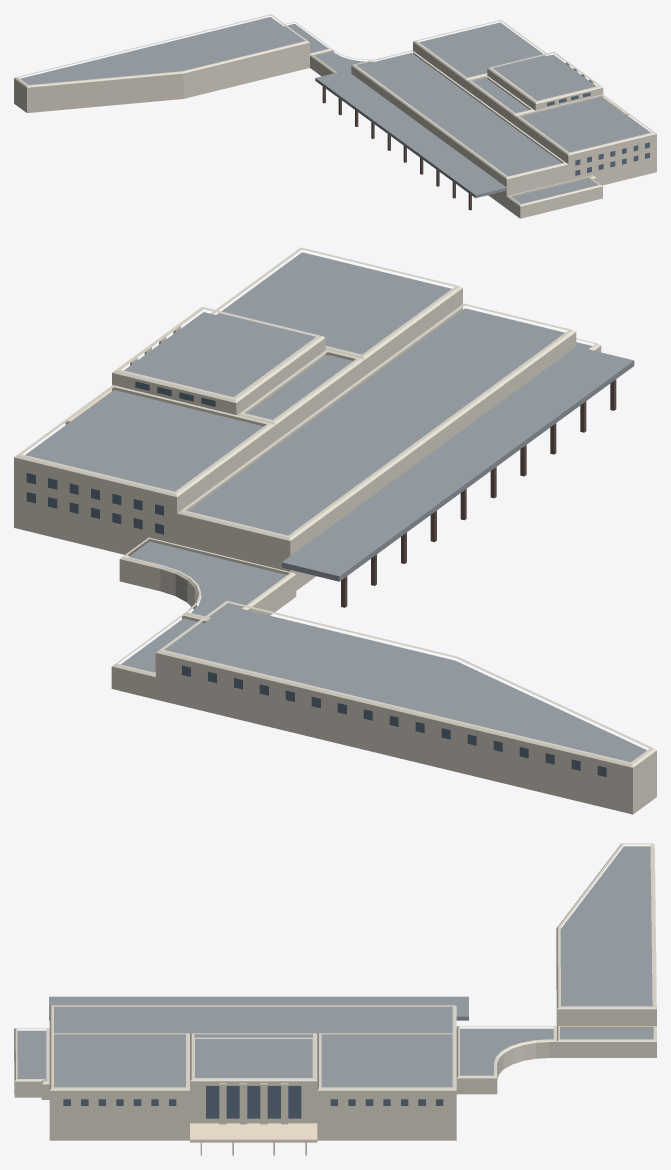
Rendered from nola-union-passenger-terminal.glb.
3 renders of one model, top to bottom at view 1: azimuth 30°, elevation 25°; view 2: azimuth 150°, elevation 25°; view 3: azimuth 270°, elevation 25°, orthographic. The views are drawn at different scales.
Visible parts, largest first — view 1: New Orleans Union Passenger Terminal; view 2: New Orleans Union Passenger Terminal; view 3: New Orleans Union Passenger Terminal.
Part boxes in pixels (<box>): New Orleans Union Passenger Terminal: <box>14,14,656,218</box>; New Orleans Union Passenger Terminal: <box>14,247,656,814</box>; New Orleans Union Passenger Terminal: <box>14,843,656,1155</box>.
Bounding box in the file's own units: 124 × 12.6 × 121.
